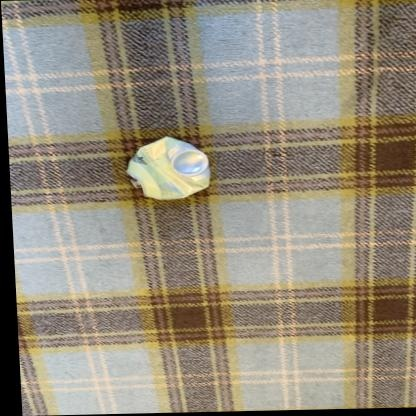trash: (127, 137, 209, 199)
